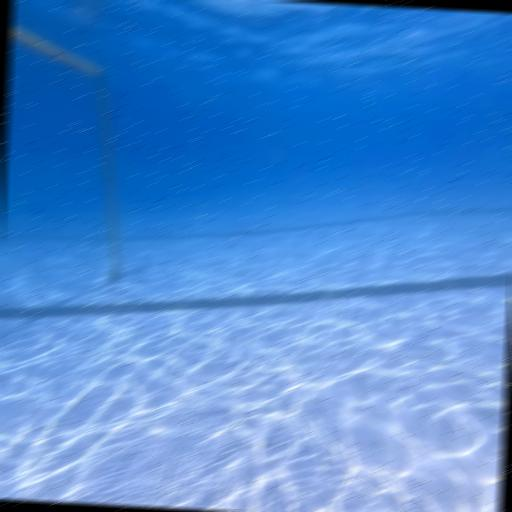gate: (0, 17, 159, 281)
